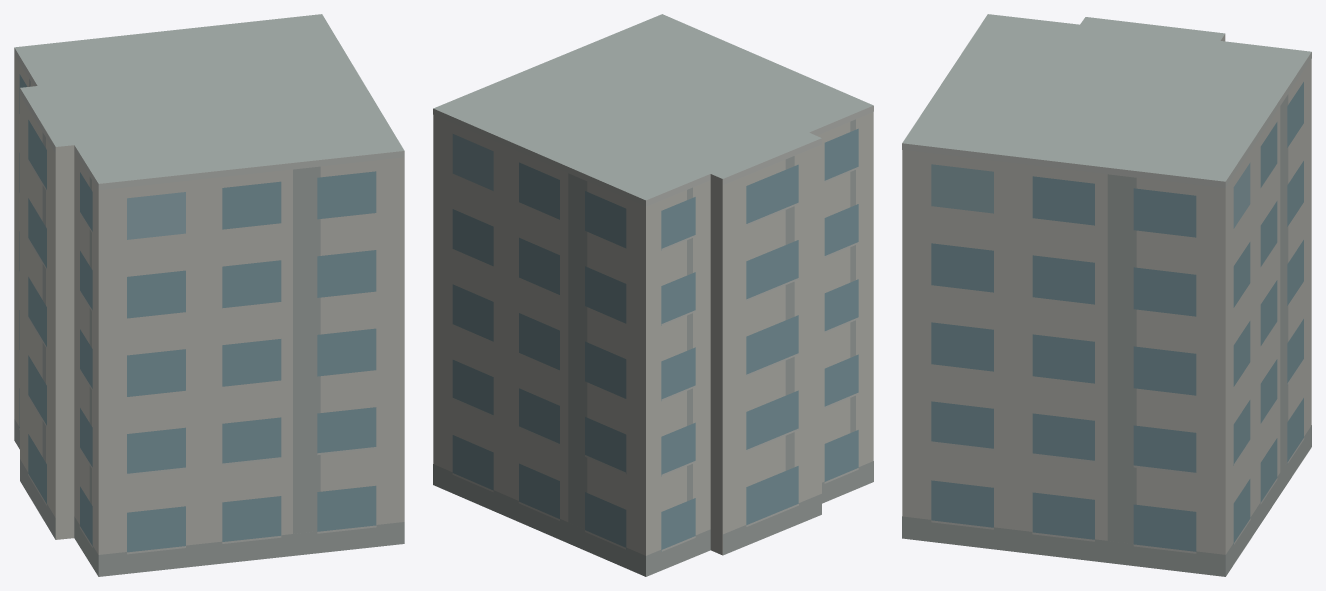
Rendered from survey-upis-32633738.glb.
The picture shows the model from 3 angles, left to right: view 1: azimuth 30°, elevation 25°; view 2: azimuth 150°, elevation 25°; view 3: azimuth 270°, elevation 25°; orthographic projection. The views are drawn at different scales.
Parts seen in each view (by area): view 1: survey-upis-32633738.tmp; view 2: survey-upis-32633738.tmp; view 3: survey-upis-32633738.tmp.
Part boxes in pixels (x1=…): survey-upis-32633738.tmp: x1=14, y1=14, x2=404, y2=576; survey-upis-32633738.tmp: x1=433, y1=14, x2=873, y2=576; survey-upis-32633738.tmp: x1=902, y1=14, x2=1311, y2=576.
Bounding box in the file's own units: 13.21 × 14.5 × 13.63.
